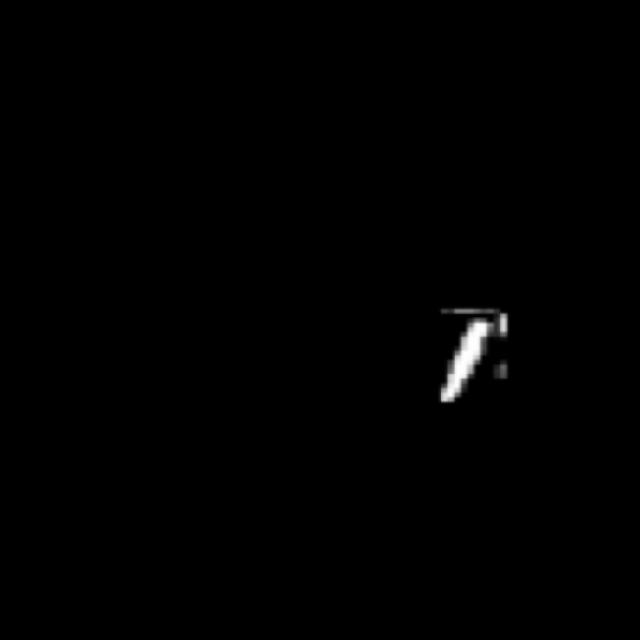one -1-: (411, 301, 515, 418)
